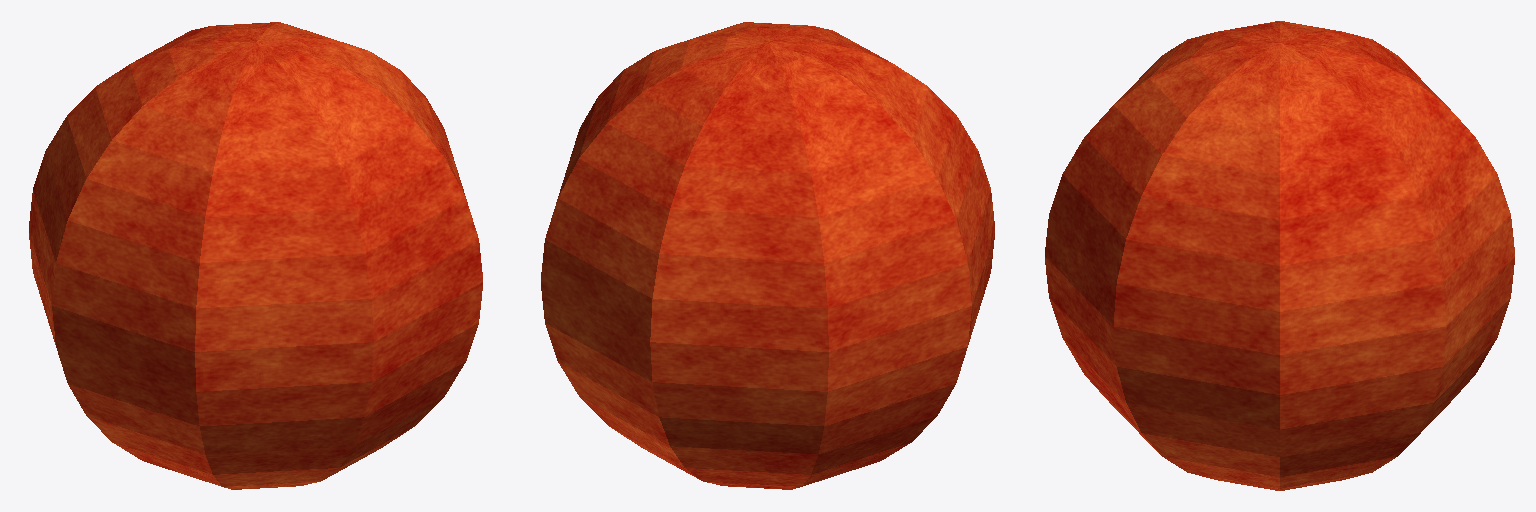
The picture shows the model from 3 angles: view 1: azimuth 30°, elevation 25°; view 2: azimuth 150°, elevation 25°; view 3: azimuth 270°, elevation 25°; orthographic projection.
Visible parts, largest first — view 1: 球; view 2: 球; view 3: 球.
Boxes of the visible parts, x1=… form: 球: x1=29, y1=22, x2=482, y2=489; 球: x1=541, y1=22, x2=994, y2=489; 球: x1=1045, y1=21, x2=1514, y2=490.
Size of the model in its own units: 2 by 2 by 2.
1 materials, 1 textured.